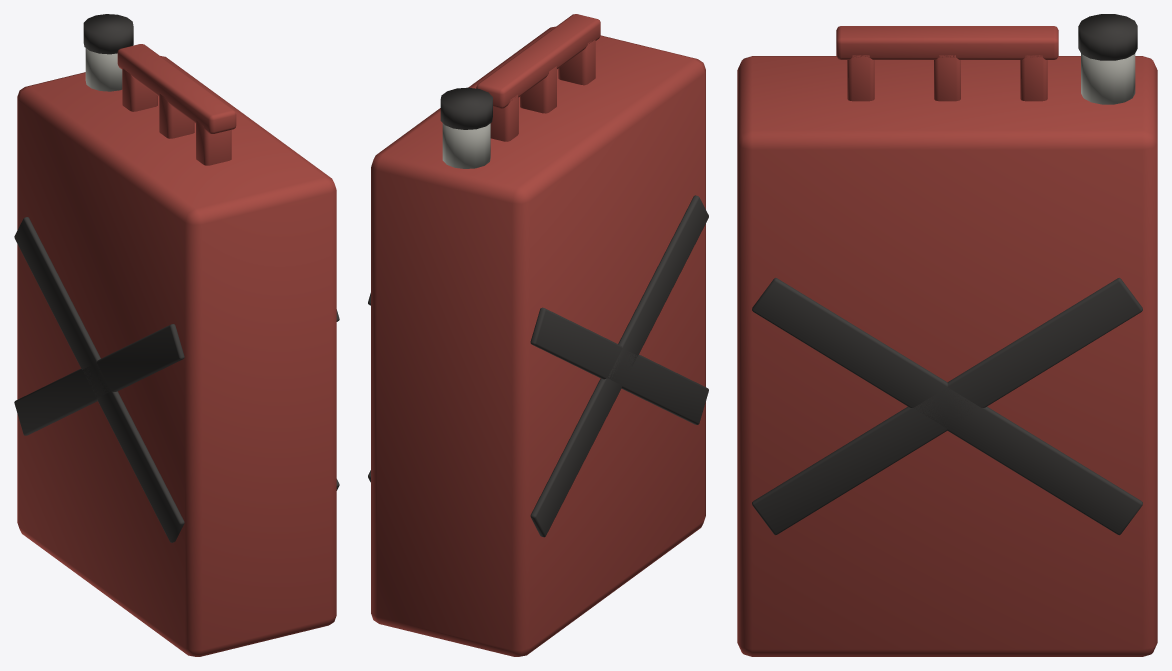
Rendered from fuel.glb.
3 views of the same model, side by side, from view 1: azimuth 30°, elevation 25°; view 2: azimuth 150°, elevation 25°; view 3: azimuth 270°, elevation 25° (orthographic). The views are drawn at different scales.
Parts seen in each view (by area): view 1: can, x.001, x, grip, cap, spout, handle, handle.001, handle.002; view 2: can, x, x.001, grip, cap, spout, handle, handle.001, handle.002; view 3: can, x.002, x.003, grip, cap, spout, handle, handle.002, handle.001.
Boxes of the visible parts, bbox=[...] form: can: bbox=[17, 56, 336, 656]; x.001: bbox=[14, 217, 184, 542]; x: bbox=[14, 324, 184, 435]; grip: bbox=[117, 44, 236, 133]; cap: bbox=[83, 14, 133, 54]; spout: bbox=[85, 48, 122, 91]; handle: bbox=[196, 120, 231, 165]; handle.001: bbox=[159, 94, 194, 138]; handle.002: bbox=[122, 68, 157, 111]; can: bbox=[371, 26, 705, 656]; x: bbox=[530, 195, 708, 537]; x.001: bbox=[530, 307, 708, 424]; grip: bbox=[476, 14, 600, 108]; cap: bbox=[440, 87, 492, 129]; spout: bbox=[442, 123, 490, 168]; handle: bbox=[558, 40, 595, 85]; handle.001: bbox=[520, 66, 556, 113]; handle.002: bbox=[490, 94, 518, 141]; can: bbox=[737, 56, 1157, 656]; x.002: bbox=[752, 278, 1142, 535]; x.003: bbox=[752, 278, 1142, 535]; grip: bbox=[836, 26, 1058, 59]; cap: bbox=[1078, 14, 1137, 60]; spout: bbox=[1081, 53, 1135, 104]; handle: bbox=[847, 55, 874, 101]; handle.002: bbox=[1020, 55, 1047, 101]; handle.001: bbox=[934, 55, 960, 101].
Size of the model in its own units: 0.176 by 0.53 by 0.34.
